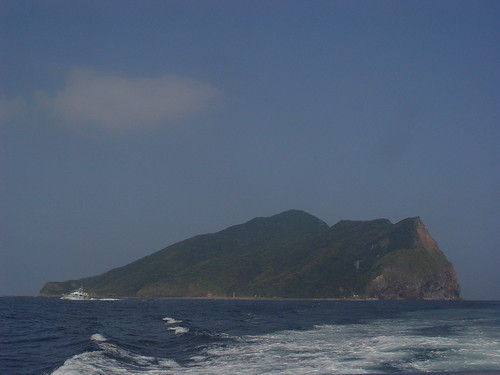turtleIsland: (31, 204, 465, 300)
